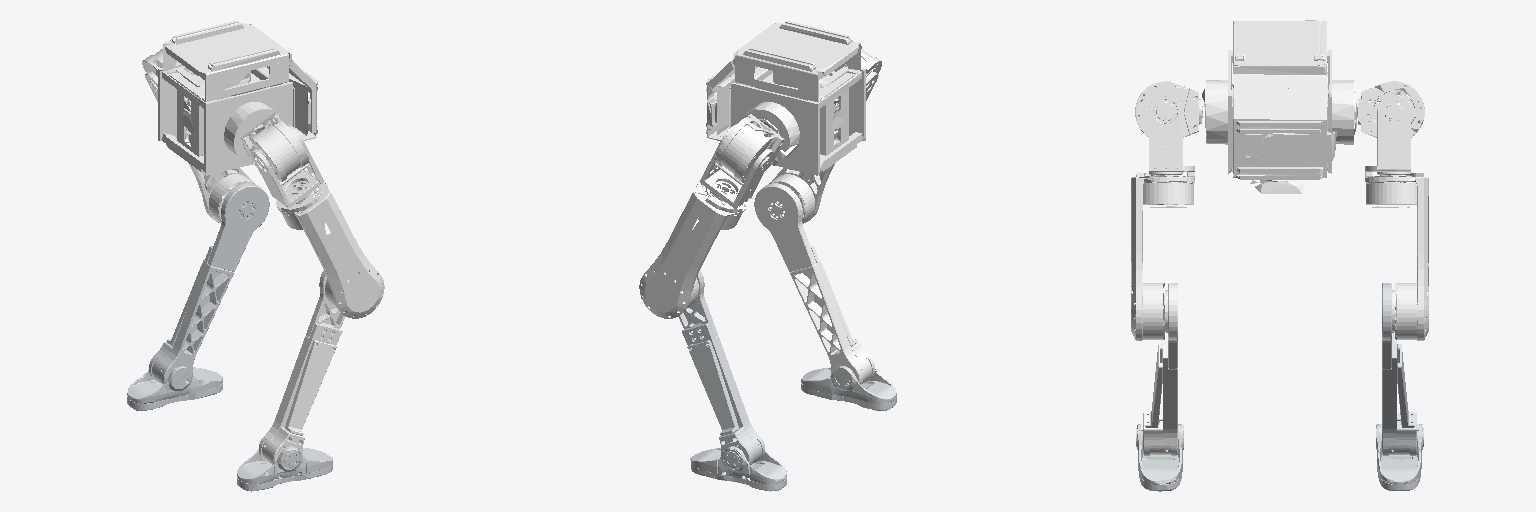
URDF robot description (Tron2-V2):
<?xml version="1.0" encoding="utf-8"?>
<!-- This URDF was automatically created by SolidWorks to URDF Exporter! Originally created by Stephen Brawner (brawner@gmail.com) 
     Commit Version: 1.6.0-4-g7f85cfe  Build Version: 1.6.7995.38578
     For more information, please see http://wiki.ros.org/sw_urdf_exporter -->
<robot
  name="Tron2-V2">
  <link
    name="base_link">
    <inertial>
      <origin
        xyz="16.713E-03 -0.400E-03 77.557E-03"
        rpy="0 0 0" />
      <mass
        value="8.653" />
      <inertia
        ixx="77474.635E-06"
        ixy="86.144E-06"
        ixz="2243.840E-06"
        iyy="57925.965E-06"
        iyz="77.393E-06"
        izz="87520.649E-06" />
    </inertial>
    <visual>
      <origin
        xyz="0 0 0"
        rpy="0 0 0" />
      <geometry>
        <mesh
          filename="../meshes/IMU.STL" />
      </geometry>
      <material
        name="">
        <color
          rgba="1 1 1 1" />
      </material>
    </visual>
    <collision>
      <origin
        xyz="0 0 0"
        rpy="0 0 0" />
      <geometry>
        <mesh
          filename="../meshes/IMU.STL" />
      </geometry>
    </collision>
  </link>
  <link
    name="abad_L_Link">
    <inertial>
      <origin
        xyz="5.377E-03 59.504E-03 2.875E-03"
        rpy="0 0 0" />
      <mass
        value="1.722 " />
      <inertia
        ixx="2741.375E-06"
        ixy="-76.650E-06"
        ixz="134.135E-06"
        iyy="2111.061E-06"
        iyz="-24.943E-06"
        izz="2452.064E-06" />
    </inertial>
    <visual>
      <origin
        xyz="0 0 0"
        rpy="0 0 0" />
      <geometry>
        <mesh
          filename="../meshes/ABAD_L.STL" />
      </geometry>
      <material
        name="">
        <color
          rgba="1 1 1 1" />
      </material>
    </visual>
    <collision>
      <origin
        xyz="0 0 0"
        rpy="0 0 0" />
      <geometry>
        <mesh
          filename="../meshes/ABAD_L.STL" />
      </geometry>
    </collision>
  </link>
  <joint
    name="abad_L_Joint"
    type="revolute">
    <origin
      xyz="-0.44E-03 136.89E-03 68.45E-03"
      rpy="0 0 0" />
    <parent
      link="base_link" />
    <child
      link="abad_L_Link" />
    <axis
      xyz="0 -1 0" />
    <limit
      lower="-3.21733994313"
      upper="2.01864781286"
      effort="80"
      velocity="15" />
  </joint>
  <link
    name="hip_L_Link">
    <inertial>
      <origin
        xyz="-5.009E-03 -3.180E-03 -72.43E-03"
        rpy="0 0 0" />
      <mass
        value="0.413" />
      <inertia
        ixx="874.533E-06"
        ixy="20.487E-06"
        ixz="69.806E-06"
        iyy="1224.426E-06"
        iyz="-45.239E-06"
        izz="706.095E-06" />
    </inertial>
    <visual>
      <origin
        xyz="0 0 0"
        rpy="0 0 0" />
      <geometry>
        <mesh
          filename="../meshes/HIP_L.STL" />
      </geometry>
      <material
        name="">
        <color
          rgba="1 1 1 1" />
      </material>
    </visual>
    <collision>
      <origin
        xyz="0 0 0"
        rpy="0 0 0" />
      <geometry>
        <mesh
          filename="../meshes/HIP_L.STL" />
      </geometry>
    </collision>
  </link>
  <joint
    name="hip_L_Joint"
    type="revolute">
    <origin
      xyz="32.72E-03 64E-03 15.72E-03"
      rpy="0 0 0" />
    <parent
      link="abad_L_Link" />
    <child
      link="hip_L_Link" />
    <axis
      xyz="-0.901357142852919 0 -0.433076553311332" />
    <limit
      lower="-3.40339204139"
      upper="0.26057765732"
      effort="80"
      velocity="15" />
  </joint>
  <link
    name="yaw_L_Link">
    <inertial>
      <origin
        xyz="57.017E-03 14.062E-03 -118.125E-03"
        rpy="0 0 0" />
      <mass
        value="3.105" />
      <inertia
        ixx="31303.805E-06"
        ixy="-980.338E-06"
        ixz="12922.679E-06"
        iyy="37331.447E-06"
        iyz="2083.596E-06"
        izz="10746.015E-06" />
    </inertial>
    <visual>
      <origin
        xyz="0 0 0"
        rpy="0 0 0" />
      <geometry>
        <mesh
          filename="../meshes/YAW_L.STL" />
      </geometry>
      <material
        name="">
        <color
          rgba="1 1 1 1" />
      </material>
    </visual>
    <collision>
      <origin
        xyz="0 0 0"
        rpy="0 0 0" />
      <geometry>
        <mesh
          filename="../meshes/YAW_L.STL" />
      </geometry>
    </collision>
  </link>
  <joint
    name="yaw_L_Joint"
    type="revolute">
    <origin
      xyz="15.44E-03 0 -115.95E-03"
      rpy="0 0 0" />
    <parent
      link="hip_L_Link" />
    <child
      link="yaw_L_Link" />
    <axis
      xyz="0.433076553303812 0 -0.901357142856532" />
    <limit
      lower="-2.70526034059"
      upper="1.50098315672"
      effort="20"
      velocity="15" />
  </joint>
  <link
    name="knee_L_Link">
    <inertial>
      <origin
        xyz="-100.316E-03 12.612E-03 -208.825E-03"
        rpy="0 0 0" />
      <mass
        value="1.496" />
      <inertia
        ixx="19889.998E-06"
        ixy="742.145E-06"
        ixz="-9125.513E-06"
        iyy="24349.620E-06"
        iyz="1543.876E-06"
        izz="5273.518E-06" />
    </inertial>
    <visual>
      <origin
        xyz="0 0 0"
        rpy="0 0 0" />
      <geometry>
        <mesh
          filename="../meshes/KNEE_L.STL" />
      </geometry>
      <material
        name="">
        <color
          rgba="0.898039215686275 0.917647058823529 0.929411764705882 1" />
      </material>
    </visual>
    <collision>
      <origin
        xyz="0 0 0"
        rpy="0 0 0" />
      <geometry>
        <mesh
          filename="../meshes/KNEE_L.STL" />
      </geometry>
    </collision>
  </link>
  <joint
    name="knee_L_Joint"
    type="revolute">
    <origin
      xyz="103.42E-03 -11E-03 -215.24E-03"
      rpy="0 0 0" />
    <parent
      link="yaw_L_Link" />
    <child
      link="knee_L_Link" />
    <axis
      xyz="0 1 0" />
    <limit
      lower="-3.54301838155"
      upper="1.75056523975"
      effort="80"
      velocity="15" />
  </joint>
  <link
    name="foot_L_Link">
    <inertial>
      <origin
        xyz="9.534E-03 28.837E-03 -33.868E-03"
        rpy="0 0 0" />
      <mass
        value="0.634" />
      <inertia
        ixx="521.946E-06"
        ixy="1.534E-06"
        ixz="39.338E-06"
        iyy="1796.392E-06"
        iyz="-0.96E-06"
        izz="1991.627E-06" />
    </inertial>
    <visual>
      <origin
        xyz="0 0 0"
        rpy="0 0 0" />
      <geometry>
        <mesh
          filename="../meshes/ANKLE_L.STL" />
      </geometry>
      <material
        name="">
        <color
          rgba="0.898039215686275 0.917647058823529 0.929411764705882 1" />
      </material>
    </visual>
    <collision>
      <origin
        xyz="0 0 0"
        rpy="0 0 0" />
      <geometry>
        <mesh
          filename="../meshes/ANKLE_L.STL" />
      </geometry>
    </collision>
  </link>
  <joint
    name="foot_L_Joint"
    type="revolute">
    <origin
      xyz="-151.58E-03 -8.6E-03 -315.48E-03"
      rpy="0 0 0" />
    <parent
      link="knee_L_Link" />
    <child
      link="foot_L_Link" />
    <axis
      xyz="0 -1 0" />
    <limit
      lower="-1.85982285093"
      upper="0.96394534588"
      effort="20"
      velocity="15" />
  </joint>
  <link
    name="abad_R_Link">
    <inertial>
      <origin
        xyz="-5.562E-03 -59.486E-03 -2.323E-03"
        rpy="0 0 0" />
      <mass
        value="1.722 " />
      <inertia
        ixx="2695.764E-06"
        ixy="-67.469E-06"
        ixz="168.068E-06"
        iyy="2112.573E-06"
        iyz="-44.751E-06"
        izz="2494.568E-06" />
    </inertial>
    <visual>
      <origin
        xyz="0 0 0"
        rpy="0 0 0" />
      <geometry>
        <mesh
          filename="../meshes/ABAD_R.STL" />
      </geometry>
      <material
        name="">
        <color
          rgba="1 1 1 1" />
      </material>
    </visual>
    <collision>
      <origin
        xyz="0 0 0"
        rpy="0 0 0" />
      <geometry>
        <mesh
          filename="../meshes/ABAD_R.STL" />
      </geometry>
    </collision>
  </link>
  <joint
    name="abad_R_Joint"
    type="revolute">
    <origin
      xyz="-0.44E-03 -136.89E-03 68.45E-03"
      rpy="0 0 0" />
    <parent
      link="base_link" />
    <child
      link="abad_R_Link" />
    <axis
      xyz="0 1 0" />
    <limit
      lower="-2.03295951272"
      upper="3.20302824326"
      effort="80"
      velocity="15" />
  </joint>
  <link
    name="hip_R_Link">
    <inertial>
      <origin
        xyz="59.683E-03 3.180E-03 -41.355E-03"
        rpy="0 0 0" />
      <mass
        value="0.413" />
      <inertia
        ixx="839.979E-06"
        ixy="-22.517E-06"
        ixz="97.463E-06"
        iyy="1224.426E-06"
        iyz="44.264E-06"
        izz="740.649E-06" />
    </inertial>
    <visual>
      <origin
        xyz="0 0 0"
        rpy="0 0 0" />
      <geometry>
        <mesh
          filename="../meshes/HIP_R.STL" />
      </geometry>
      <material
        name="">
        <color
          rgba="1 1 1 1" />
      </material>
    </visual>
    <collision>
      <origin
        xyz="0 0 0"
        rpy="0 0 0" />
      <geometry>
        <mesh
          filename="../meshes/HIP_R.STL" />
      </geometry>
    </collision>
  </link>
  <joint
    name="hip_R_Joint"
    type="revolute">
    <origin
      xyz="-32.72E-03 -64E-03 -15.72E-03"
      rpy="0 0 0" />
    <parent
      link="abad_R_Link" />
    <child
      link="hip_R_Link" />
    <axis
      xyz="0.901357142857214 0 0.433076553302392" />
    <limit
      lower="-3.40339204139"
      upper="0.26057765732"
      effort="80"
      velocity="15" />
  </joint>
  <link
    name="yaw_R_Link">
    <inertial>
      <origin
        xyz="57.017E-03 -14.062E-03 -118.125E-03"
        rpy="0 0 0" />
      <mass
        value="3.105" />
      <inertia
        ixx="31303.805E-06"
        ixy="980.338E-06"
        ixz="12922.679E-06"
        iyy="37331.447E-06"
        iyz="-2083.596E-06"
        izz="10746.015E-06" />
    </inertial>
    <visual>
      <origin
        xyz="0 0 0"
        rpy="0 0 0" />
      <geometry>
        <mesh
          filename="../meshes/YAW_R.STL" />
      </geometry>
      <material
        name="">
        <color
          rgba="1 1 1 1" />
      </material>
    </visual>
    <collision>
      <origin
        xyz="0 0 0"
        rpy="0 0 0" />
      <geometry>
        <mesh
          filename="../meshes/YAW_R.STL" />
      </geometry>
    </collision>
  </link>
  <joint
    name="yaw_R_Joint"
    type="revolute">
    <origin
      xyz="80.88E-03 0 -84.51E-03"
      rpy="0 0 0" />
    <parent
      link="hip_R_Link" />
    <child
      link="yaw_R_Link" />
    <axis
      xyz="0.433076553302392 0 -0.901357142857214" />
    <limit
      lower="-1.50098315672"
      upper="2.70526034059"
      effort="20"
      velocity="15" />
  </joint>
  <link
    name="knee_R_Link">
    <inertial>
      <origin
        xyz="-100.316E-03 -12.612E-03 -208.825E-03"
        rpy="0 0 0" />
      <mass
        value="1.496" />
      <inertia
        ixx="19889.998E-06"
        ixy="-742.145E-06"
        ixz="-9125.513E-06"
        iyy="24349.620E-06"
        iyz="-1543.876E-06"
        izz="5273.518E-06" />
    </inertial>
    <visual>
      <origin
        xyz="0 0 0"
        rpy="0 0 0" />
      <geometry>
        <mesh
          filename="../meshes/KNEE_R.STL" />
      </geometry>
      <material
        name="">
        <color
          rgba="1 1 1 1" />
      </material>
    </visual>
    <collision>
      <origin
        xyz="0 0 0"
        rpy="0 0 0" />
      <geometry>
        <mesh
          filename="../meshes/KNEE_R.STL" />
      </geometry>
    </collision>
  </link>
  <joint
    name="knee_R_Joint"
    type="revolute">
    <origin
      xyz="103.42E-03 11E-03 -215.24E-03"
      rpy="0 0 0" />
    <parent
      link="yaw_R_Link" />
    <child
      link="knee_R_Link" />
    <axis
      xyz="0 -1 0" />
    <limit
      lower="-1.75056523975"
      upper="3.54301838155"
      effort="80"
      velocity="15" />
  </joint>
  <link
    name="foot_R_Link">
    <inertial>
      <origin
        xyz="9.534E-03 -28.837E-03 -33.868E-03"
        rpy="0 0 0" />
      <mass
        value="0.634" />
      <inertia
        ixx="521.946E-06"
        ixy="-1.534E-06"
        ixz="39.338E-06"
        iyy="1796.392E-06"
        iyz="0.96E-06"
        izz="1991.627E-06" />
    </inertial>
    <visual>
      <origin
        xyz="0 0 0"
        rpy="0 0 0" />
      <geometry>
        <mesh
          filename="../meshes/ANKLE_R.STL" />
      </geometry>
      <material
        name="">
        <color
          rgba="0.898039215686275 0.917647058823529 0.929411764705882 1" />
      </material>
    </visual>
    <collision>
      <origin
        xyz="0 0 0"
        rpy="0 0 0" />
      <geometry>
        <mesh
          filename="../meshes/ANKLE_R.STL" />
      </geometry>
    </collision>
  </link>
  <joint
    name="foot_R_Joint"
    type="revolute">
    <origin
      xyz="-151.58E-03 8.6E-03 -315.48E-03"
      rpy="0 0 0" />
    <parent
      link="knee_R_Link" />
    <child
      link="foot_R_Link" />
    <axis
      xyz="0 1 0" />
    <limit
      lower="-0.96394534588"
      upper="1.85982285093"
      effort="20"
      velocity="15" />
  </joint>
</robot>

--- Facts derived from the render (not from the file) ---
3 views of the same robot in one strip: view 1: azimuth 30°, elevation 25°; view 2: azimuth 150°, elevation 25°; view 3: azimuth 270°, elevation 25° (orthographic).
Model Tron2-V2 with 11 links and 10 joints (10 revolute), rooted at base_link, posed all joints at 0.
Visible links, largest first — view 1: base_link, knee_L_Link, yaw_R_Link, knee_R_Link, foot_R_Link, foot_L_Link, abad_R_Link, hip_R_Link, yaw_L_Link; view 2: base_link, knee_R_Link, yaw_L_Link, knee_L_Link, foot_L_Link, foot_R_Link, abad_L_Link, hip_L_Link, yaw_R_Link; view 3: base_link, yaw_L_Link, yaw_R_Link, knee_L_Link, knee_R_Link, hip_R_Link, hip_L_Link, abad_L_Link, abad_R_Link, foot_R_Link, foot_L_Link.
Link boxes in pixels (x1,y1,x2,y2): base_link: (158,21,317,175); knee_L_Link: (149,183,269,384); yaw_R_Link: (276,180,384,318); knee_R_Link: (259,270,345,464); foot_R_Link: (237,446,332,491); foot_L_Link: (127,366,222,410); abad_R_Link: (240,113,308,181); hip_R_Link: (251,124,324,207); yaw_L_Link: (176,137,254,222); base_link: (706,21,865,175); knee_R_Link: (754,183,874,384); yaw_L_Link: (639,179,747,318); knee_L_Link: (678,270,764,464); foot_L_Link: (690,446,786,491); foot_R_Link: (801,366,896,410); abad_L_Link: (714,114,784,182); hip_L_Link: (700,124,773,208); yaw_R_Link: (766,154,834,223); base_link: (1202,20,1356,193); yaw_L_Link: (1365,173,1428,340); yaw_R_Link: (1131,173,1194,340); knee_L_Link: (1382,283,1418,455); knee_R_Link: (1141,283,1177,455); hip_R_Link: (1149,95,1194,176); hip_L_Link: (1365,95,1410,176); abad_L_Link: (1357,81,1424,137); abad_R_Link: (1135,81,1202,137); foot_R_Link: (1136,424,1183,491); foot_L_Link: (1376,424,1423,490).
Bounding box of the posed robot: 0.3003 × 0.5218 × 0.8352 m (x, y, z).
11 mesh visuals loaded from 11 distinct referenced files (11 binary STL).
